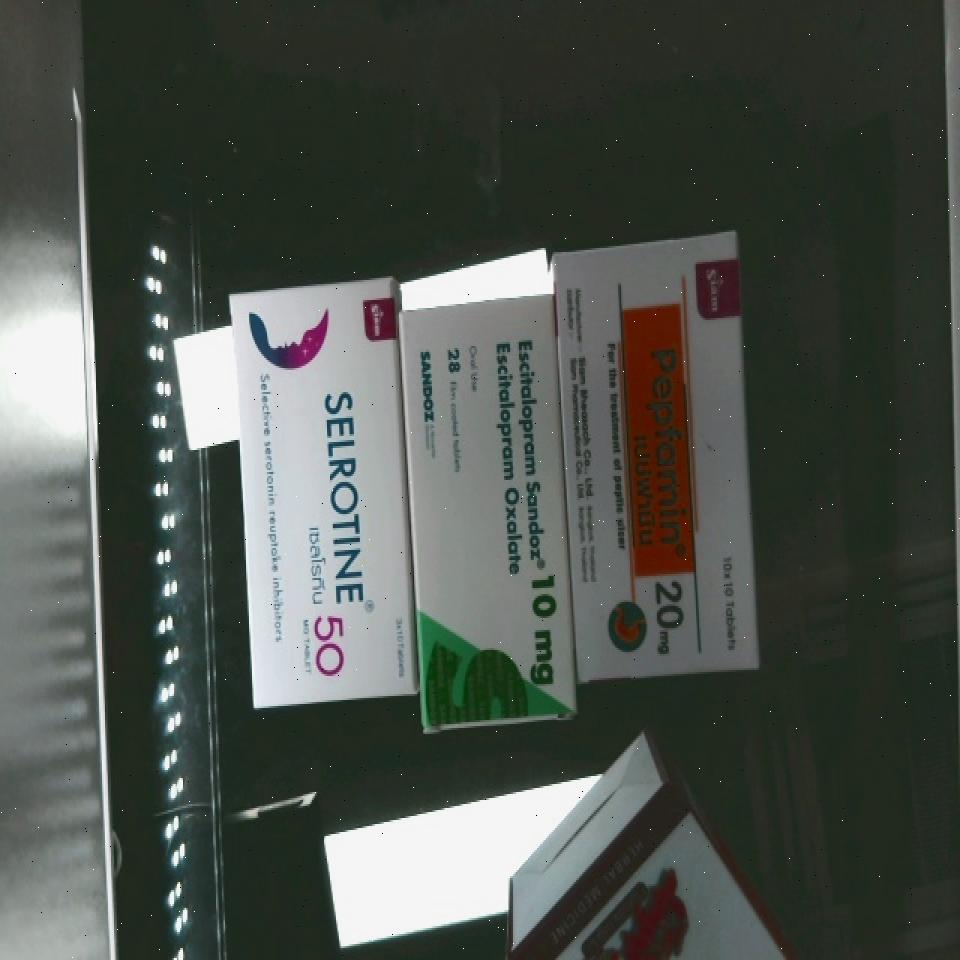medicine_box: (552, 231, 756, 687), (225, 277, 418, 709), (398, 292, 576, 732), (506, 775, 786, 958)
medicine_label_obb: (475, 318, 572, 702), (619, 311, 702, 669), (290, 377, 385, 685)
